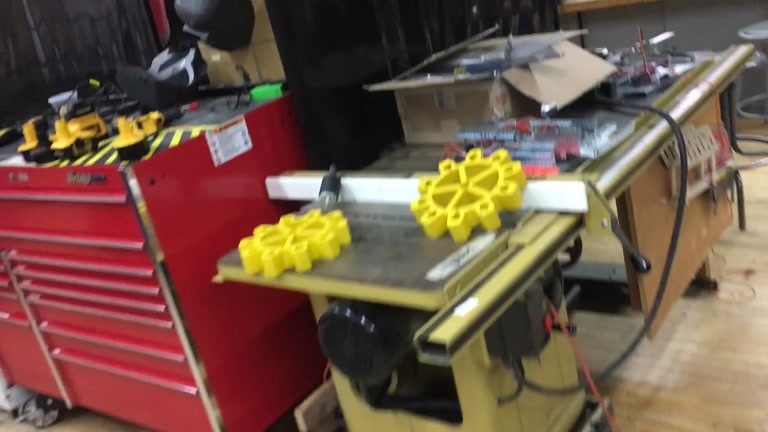gear: (409, 145, 526, 243), (239, 206, 351, 281)
